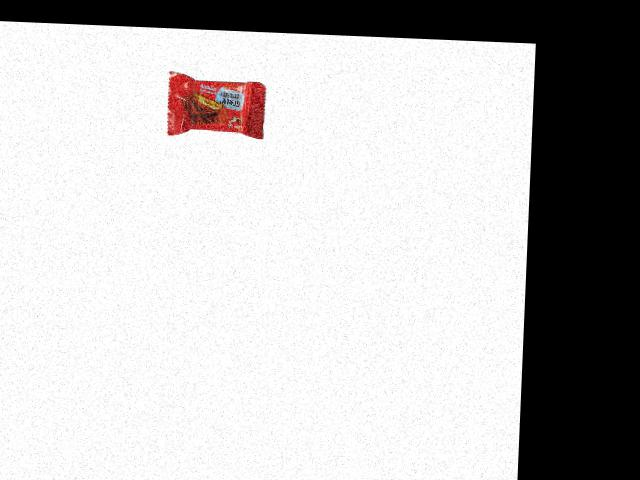chocolate: (165, 65, 275, 138)
